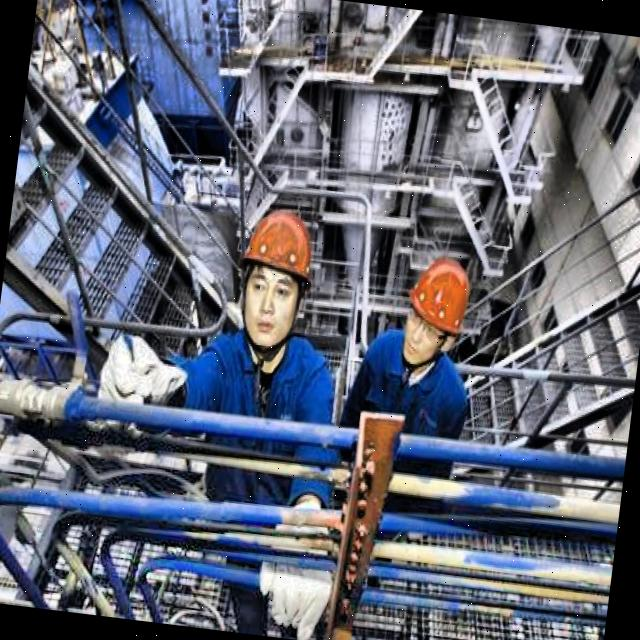helmet: (230, 196, 332, 352), (394, 248, 478, 372)
